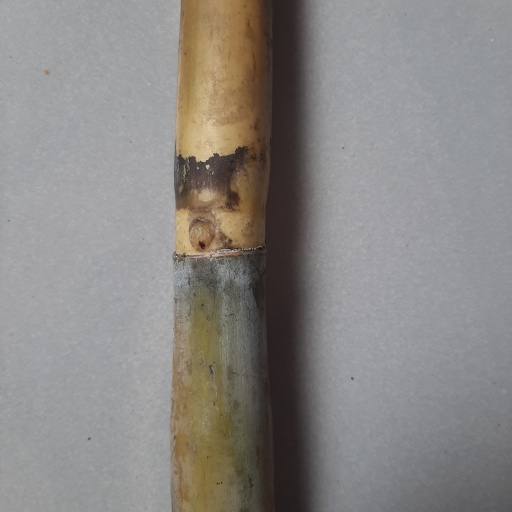Bud: (187, 215, 218, 252)
